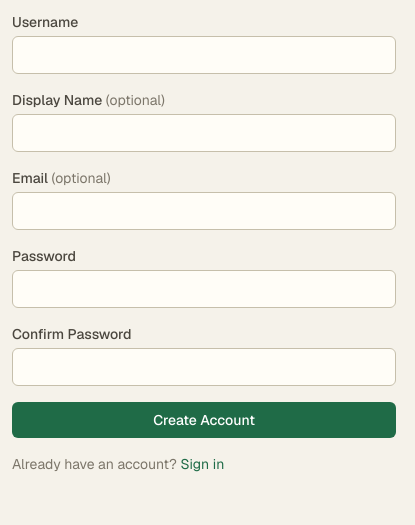
Test case: RegisterForm › should show error when password is too short
The width and height of the screenshot is (415, 525).
Type "newuser" into the field labelled "Username" at (204, 55), box [12,36,396,74]
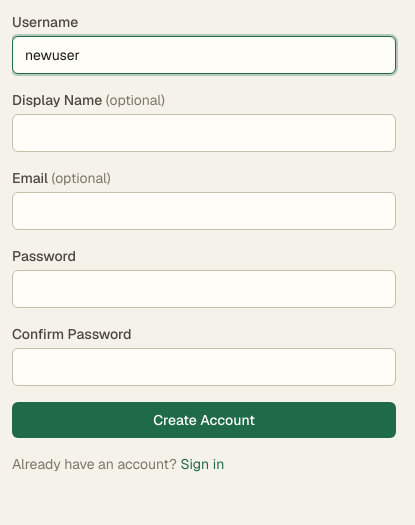
Type "short" into the password field labelled "Password" at (204, 289), box [12,270,396,308]
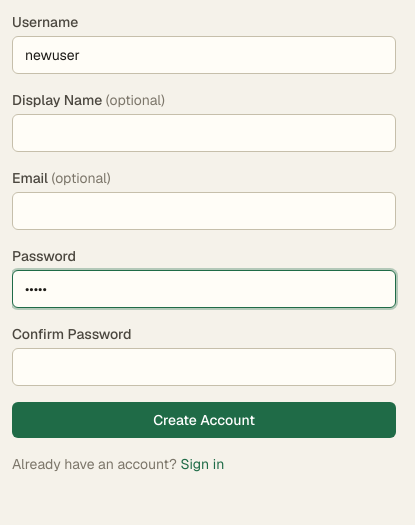
Type "short" into the password field labelled "Confirm Password" at (204, 367), box [12,348,396,386]
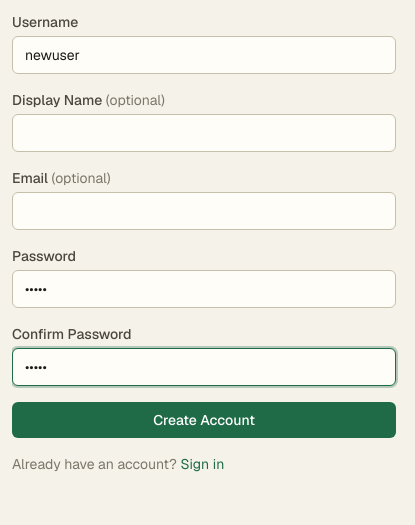
Click the button "Create Account" at (204, 420), box [12,402,396,438]
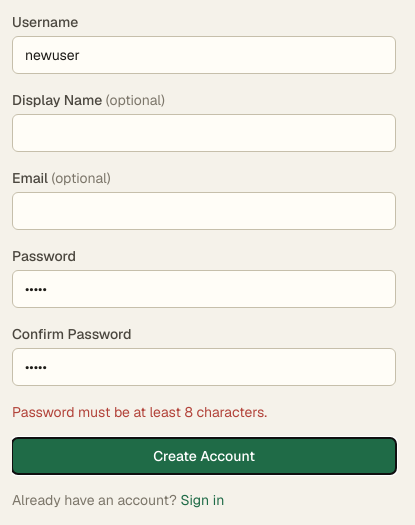
Expected: the text "Password must be at least 8 characters." is shown, [12,403,267,421]
